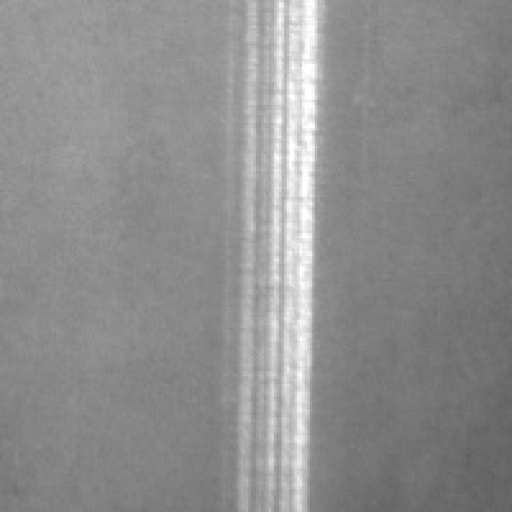scratches: (215, 0, 329, 510)
